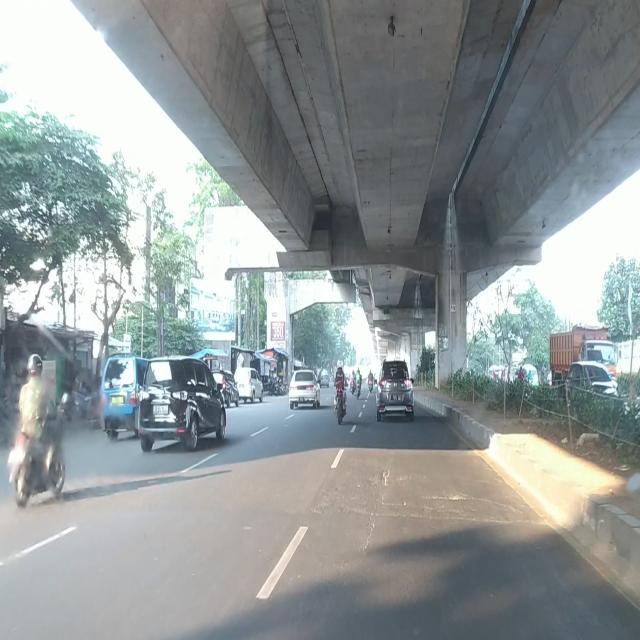Drain Hole: (344, 462, 402, 512)
